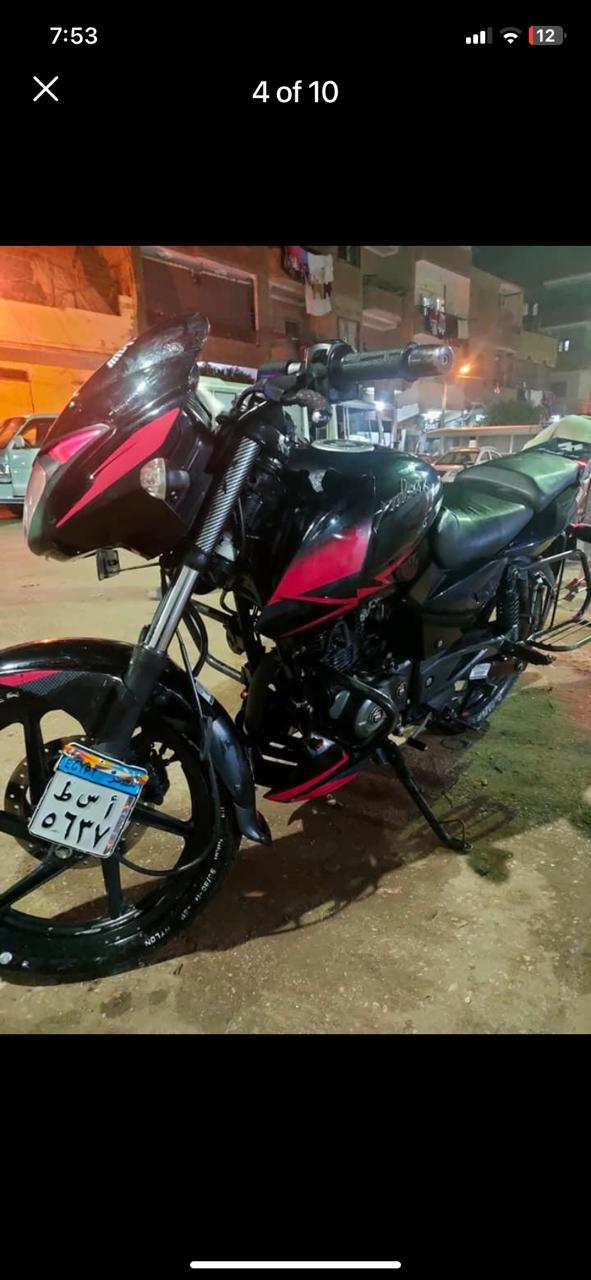License Plate: (29, 741, 148, 859)
